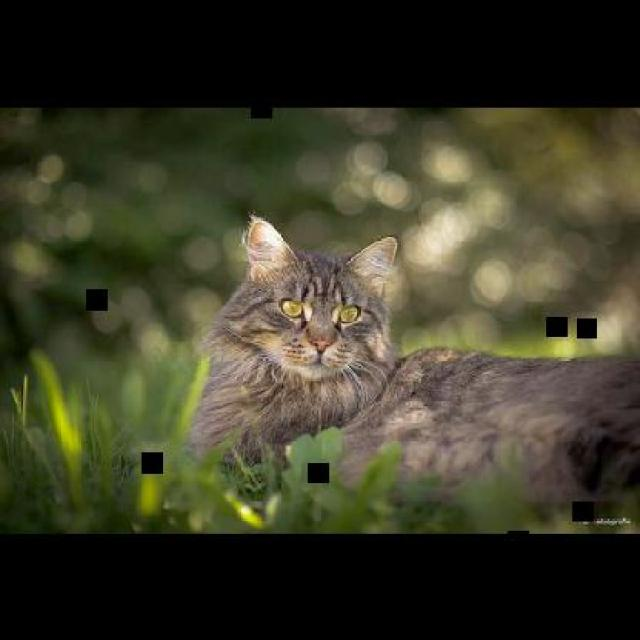unauthorized: (184, 212, 638, 511)
